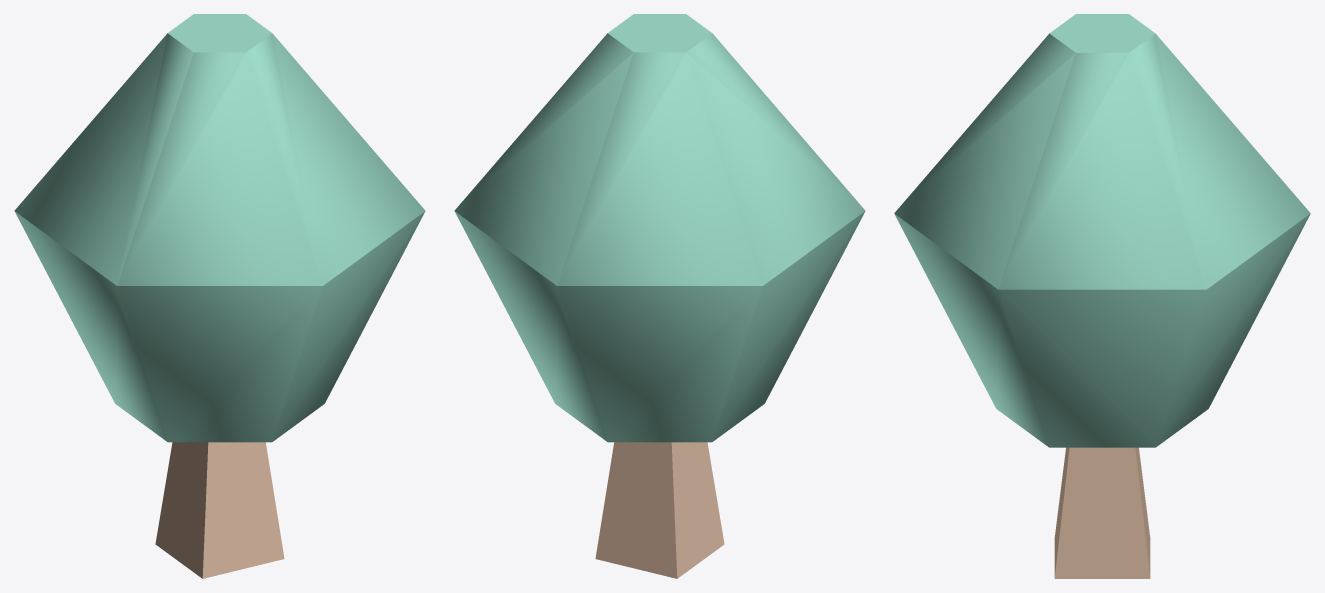
File: tree_fatter.fbx
The picture shows the model from 3 angles, left to right: view 1: azimuth 30°, elevation 25°; view 2: azimuth 150°, elevation 25°; view 3: azimuth 270°, elevation 25°; orthographic projection.
Parts seen in each view (by area): view 1: tree_small; view 2: tree_small; view 3: tree_small.
Part boxes in pixels (left/top/right/bottom): tree_small: left=14, top=14, right=425, bottom=578; tree_small: left=454, top=14, right=865, bottom=578; tree_small: left=894, top=14, right=1310, bottom=578.
Size of the model in its own units: 27.53 by 44.21 by 31.79.
